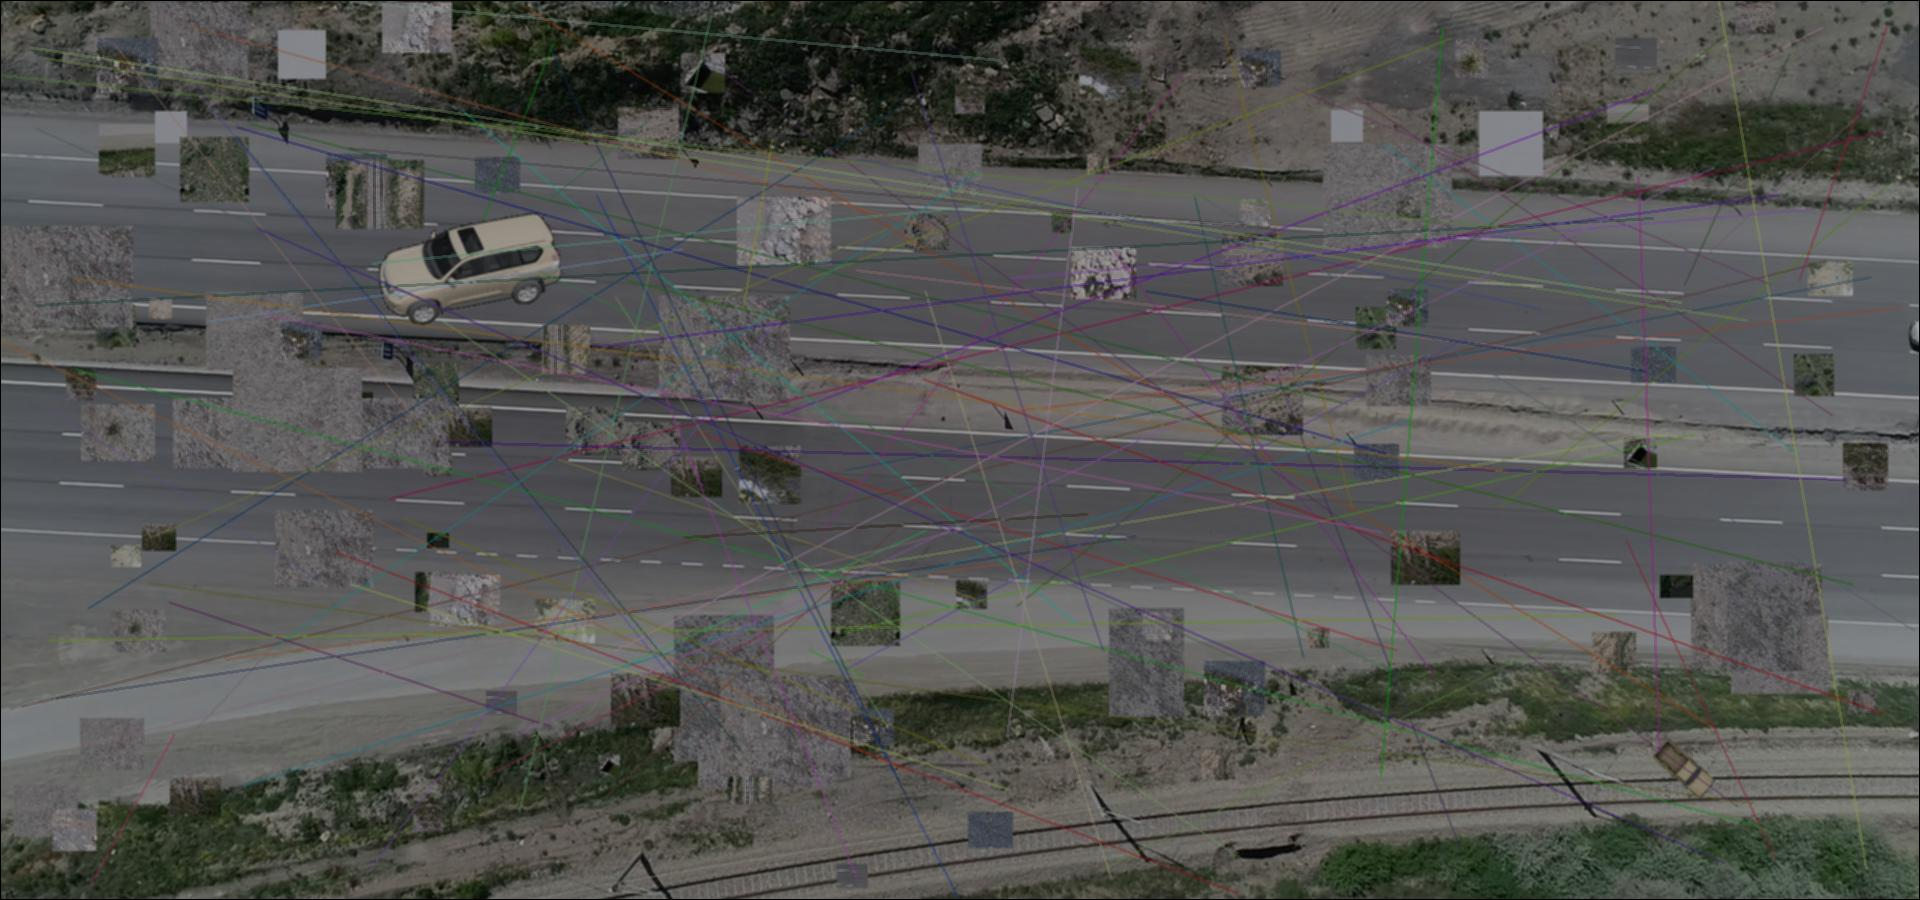arac: (371, 213, 566, 324), (1651, 736, 1716, 800)
